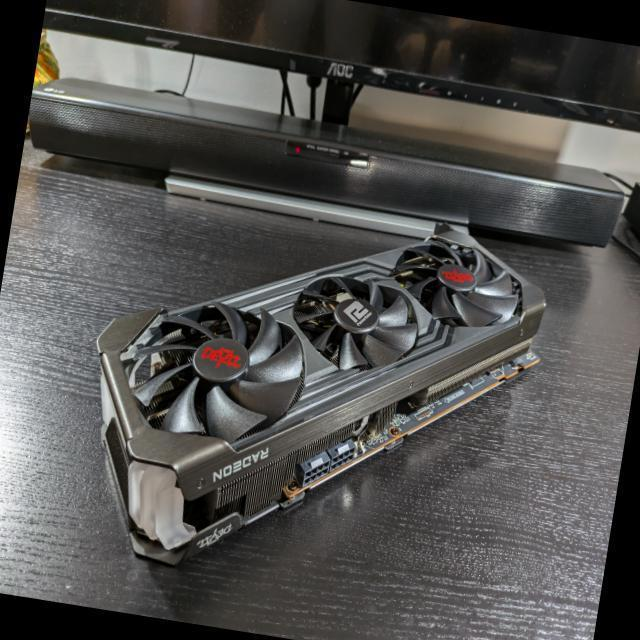GPU: (88, 218, 546, 564)
